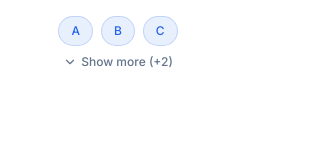
Scenario: SuggestedPromptChips › reveals the rest after clicking "Show more"
This screenshot has width=320, height=160.
Click the button "Show more (+2)" at (118, 62), box 63,54 -> 173,70
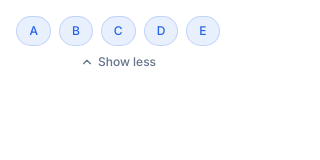
Result: the button "D" is shown at 144,16 -> 178,46
Result: the button "E" is shown at 186,16 -> 220,46
